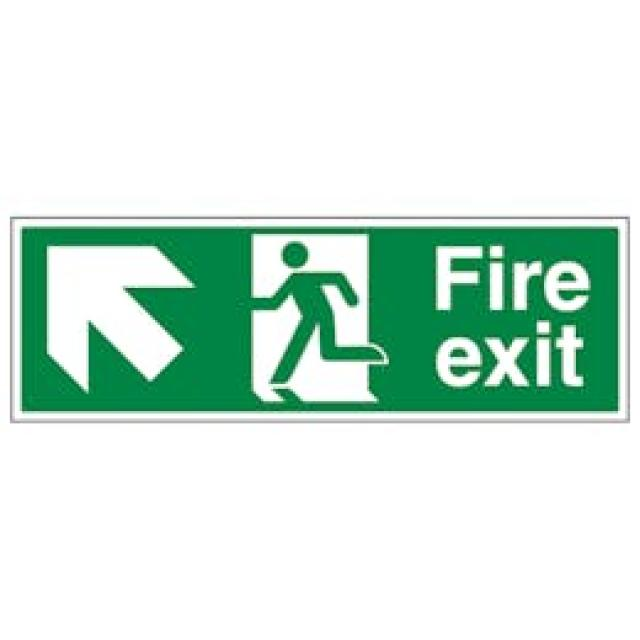exit_sign: (0, 190, 640, 454)
